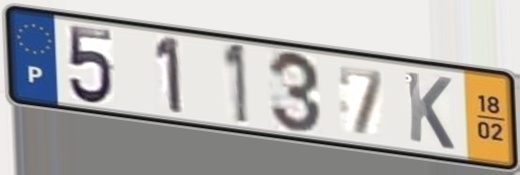1: (151, 34, 188, 117), (220, 40, 252, 130)
3: (264, 48, 324, 137)
5: (65, 22, 116, 105)
7: (335, 64, 386, 137)
K: (403, 68, 457, 153)
